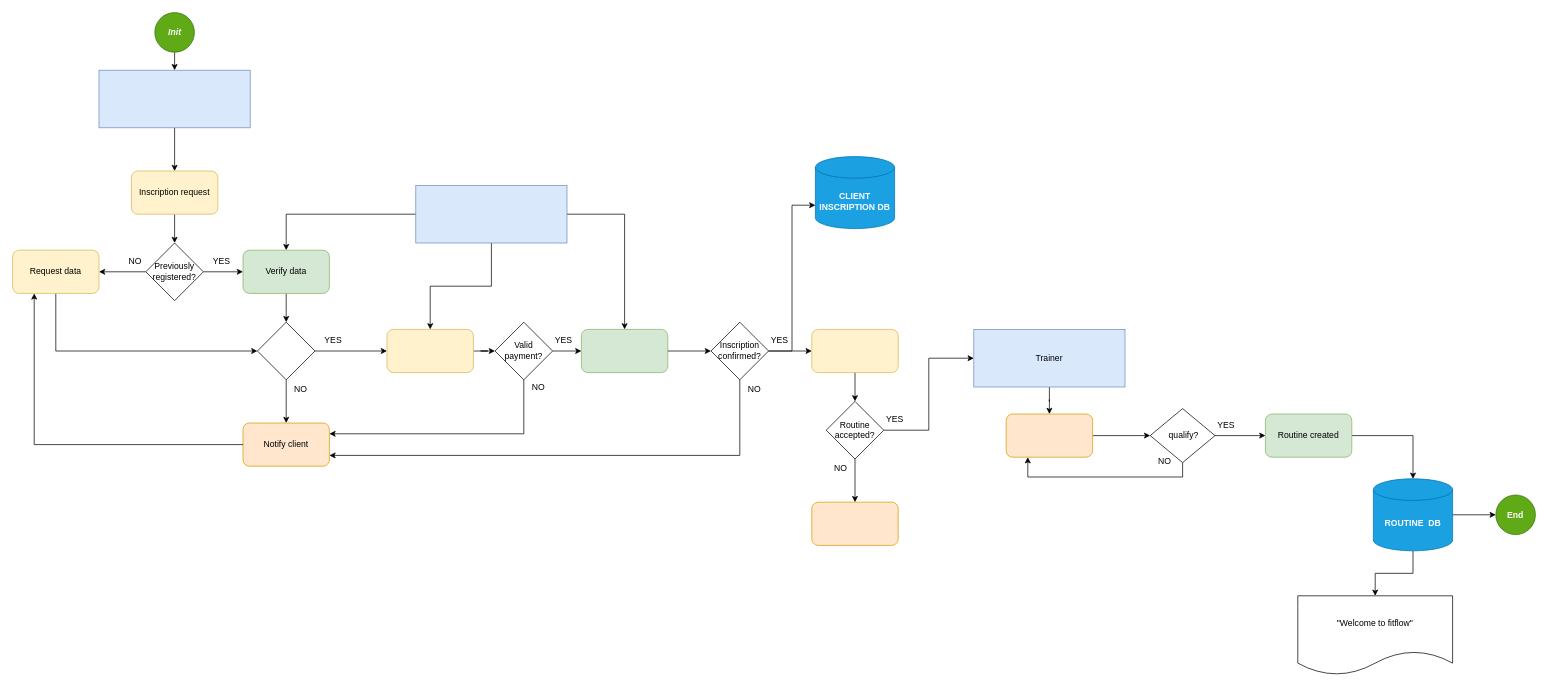
Some shapes in this 1548 by 688 pixel diagram are drawn without their labels. Here are the shapes that lost their labels. From the top down, the box of each, then its label:
(98, 69, 250, 128): Client
(415, 185, 567, 243): Employee
(257, 321, 315, 380): Valid data?
(386, 329, 473, 373): Request payment method
(581, 329, 668, 373): Confirm inscription
(811, 329, 898, 373): Offer a routine
(1005, 413, 1093, 457): Request routine type
(811, 501, 898, 545): self routine
